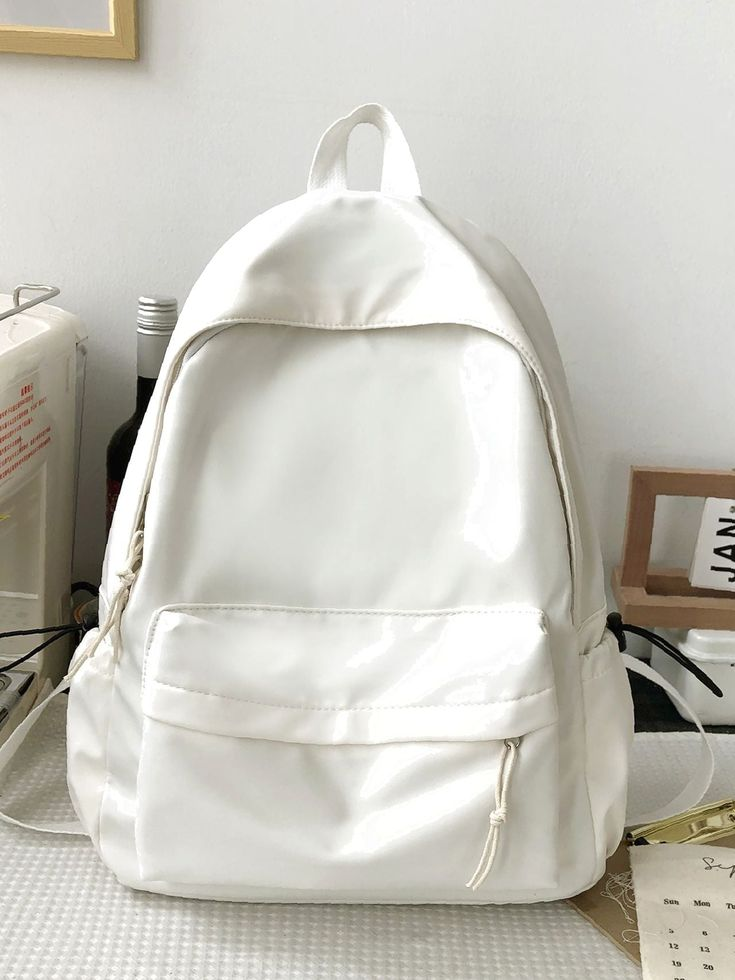nylon: (1, 103, 716, 905)
